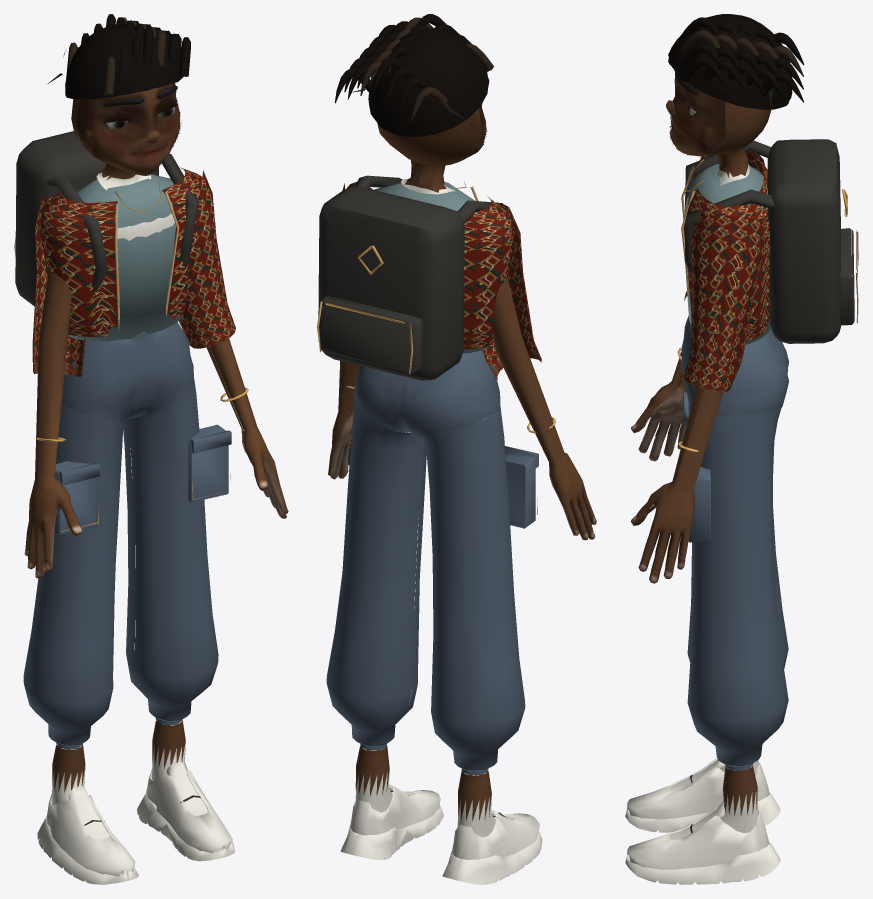
File: character-tayo-resident.glb
The picture shows the model from 3 angles, left to right: view 1: azimuth 30°, elevation 25°; view 2: azimuth 150°, elevation 25°; view 3: azimuth 270°, elevation 25°; orthographic projection. The views are drawn at different scales.
Visible parts, largest first — view 1: Explorer; view 2: Explorer; view 3: Explorer.
Part boxes in pixels (x1,y1,x2,y2): Explorer: (14,14,288,884); Explorer: (317,14,596,884); Explorer: (625,14,858,884).
Bounding box in the file's own units: 0.5248 × 1.62 × 0.4121.
Materials: 11 (2 with a texture image).
